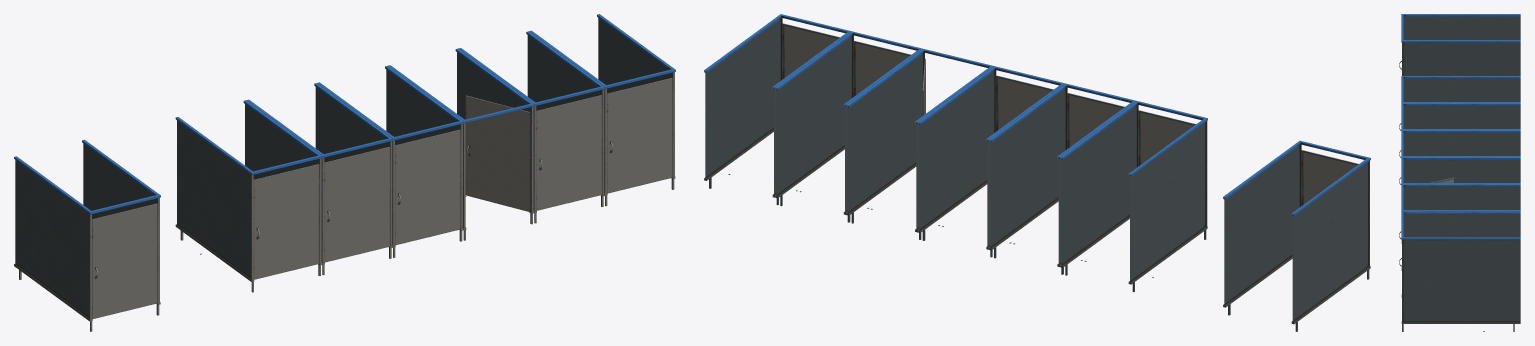
3 views of the same model, side by side, from view 1: azimuth 30°, elevation 25°; view 2: azimuth 150°, elevation 25°; view 3: azimuth 270°, elevation 25° (orthographic). The views are drawn at different scales.
Visible parts, largest first — view 1: Cloner_1, Cloner, base, door, Cloner_2; view 2: Cloner, base, Cloner_1, door; view 3: Cloner, base.
Part boxes in pixels (x1,y1,x2,y2): Cloner_1: (200, 78, 675, 281); Cloner: (175, 14, 675, 292); base: (14, 139, 160, 331); door: (92, 203, 157, 318); Cloner_2: (465, 95, 531, 211); Cloner: (704, 14, 1207, 291); base: (1223, 140, 1370, 331); Cloner_1: (728, 23, 1195, 277); door: (1301, 150, 1358, 205); Cloner: (1401, 76, 1520, 331); base: (1401, 14, 1520, 75).
Size of the model in its own units: 11.43 by 2.24 by 2.62.
Materials: 2 (2 with a texture image).
